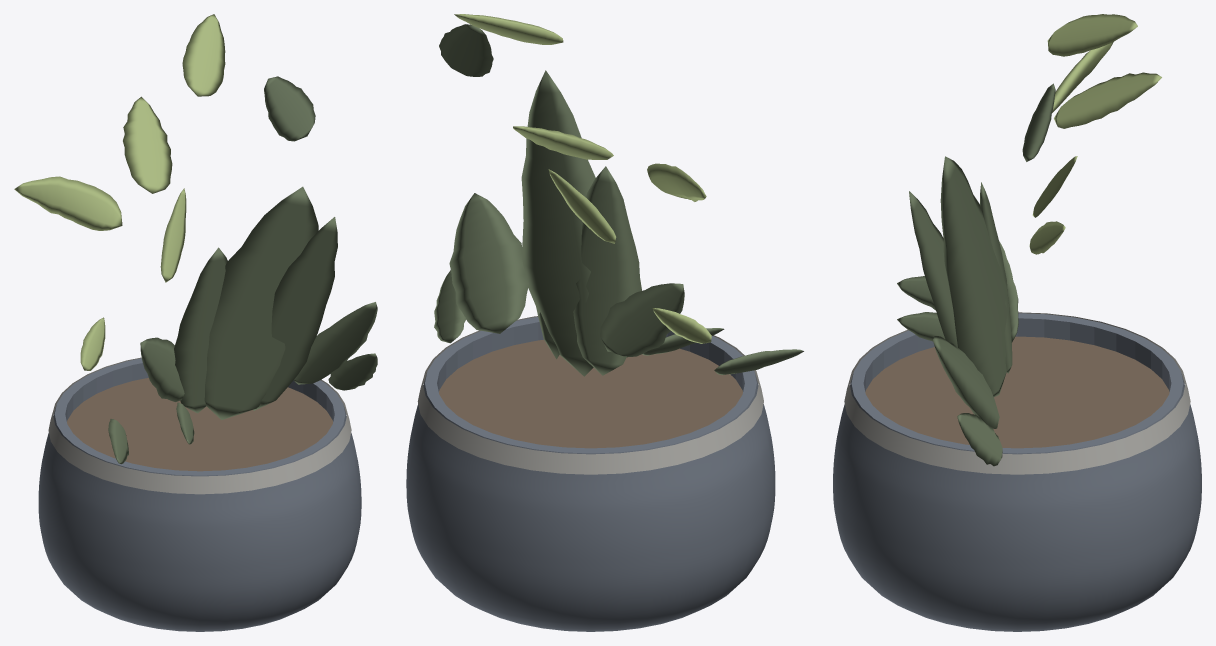
Rendered from NPR_25_1034__MOD__GardenFurniture__PlantersAndPots__PottedPlantGrey__Var-04__.glb.
3 views of the same model, side by side, from view 1: azimuth 30°, elevation 25°; view 2: azimuth 150°, elevation 25°; view 3: azimuth 270°, elevation 25° (orthographic). The views are drawn at different scales.
Parts seen in each view (by area): view 1: NPR_25_1034__MOD__GardenFurniture__PlantersAndPots__PottedPl; view 2: NPR_25_1034__MOD__GardenFurniture__PlantersAndPots__PottedPl; view 3: NPR_25_1034__MOD__GardenFurniture__PlantersAndPots__PottedPl.
Part boxes in pixels (left/top/right/bottom): NPR_25_1034__MOD__GardenFurniture__PlantersAndPots__PottedPl: left=14, top=14, right=377, bottom=631; NPR_25_1034__MOD__GardenFurniture__PlantersAndPots__PottedPl: left=406, top=14, right=803, bottom=631; NPR_25_1034__MOD__GardenFurniture__PlantersAndPots__PottedPl: left=833, top=14, right=1201, bottom=631.
Bounding box in the file's own units: 0.5877 × 0.9741 × 0.55.
